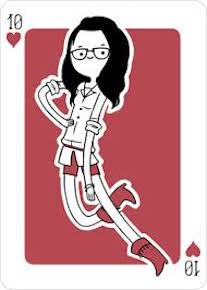TenOfHearts: (4, 9, 205, 280)
